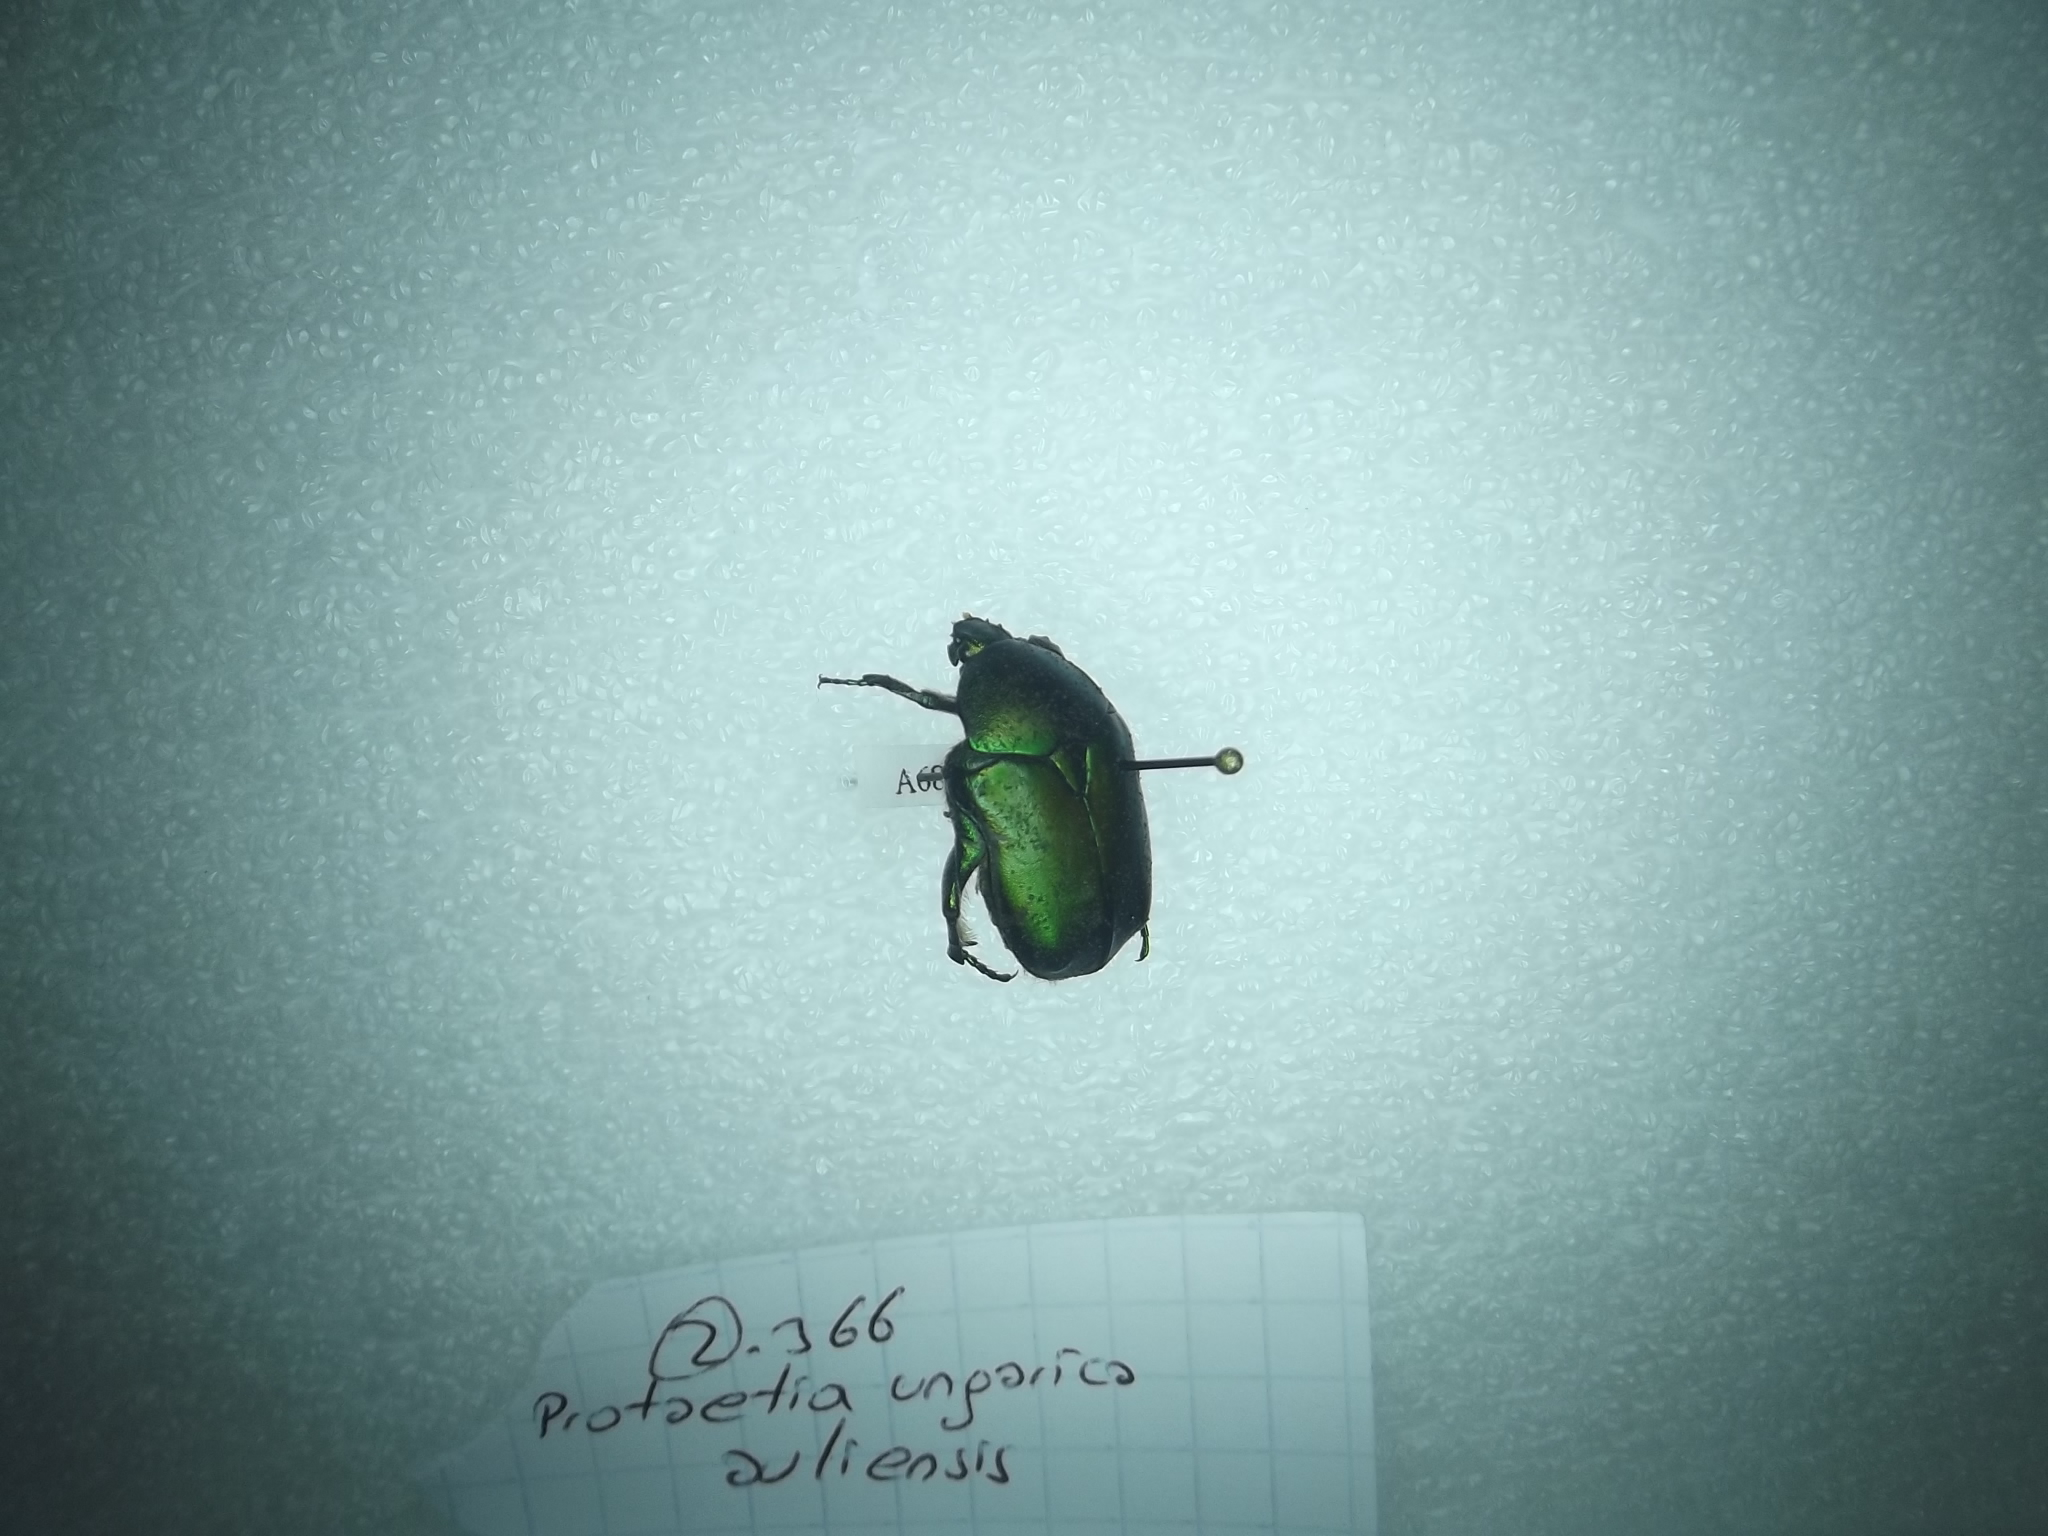Protaetia_ungarica_auliensis: (811, 600, 1180, 1037)
